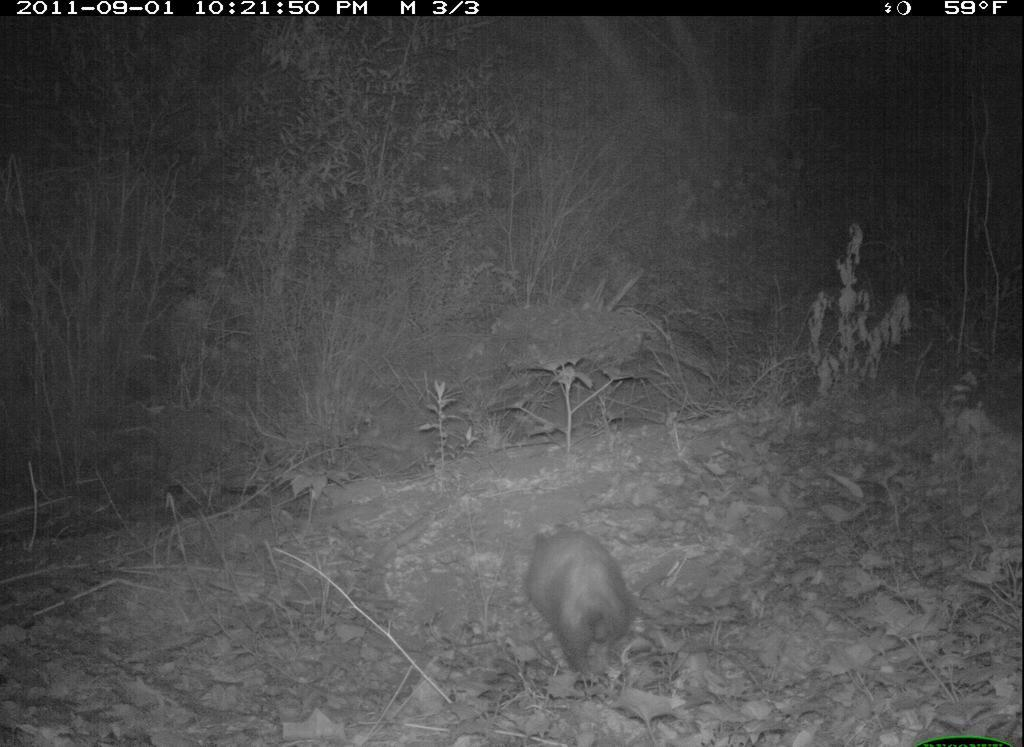opossum: (513, 505, 656, 694)
